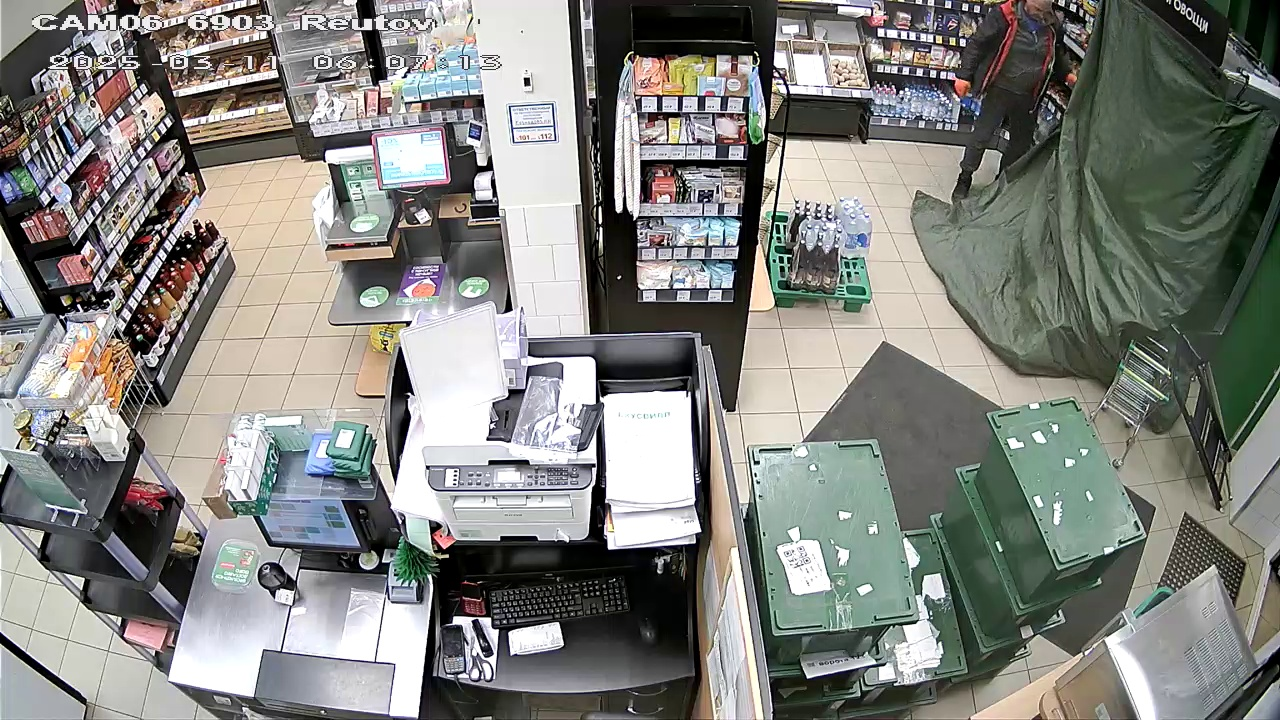Human: (958, 0, 1072, 207)
dome: (959, 12, 1273, 368)
